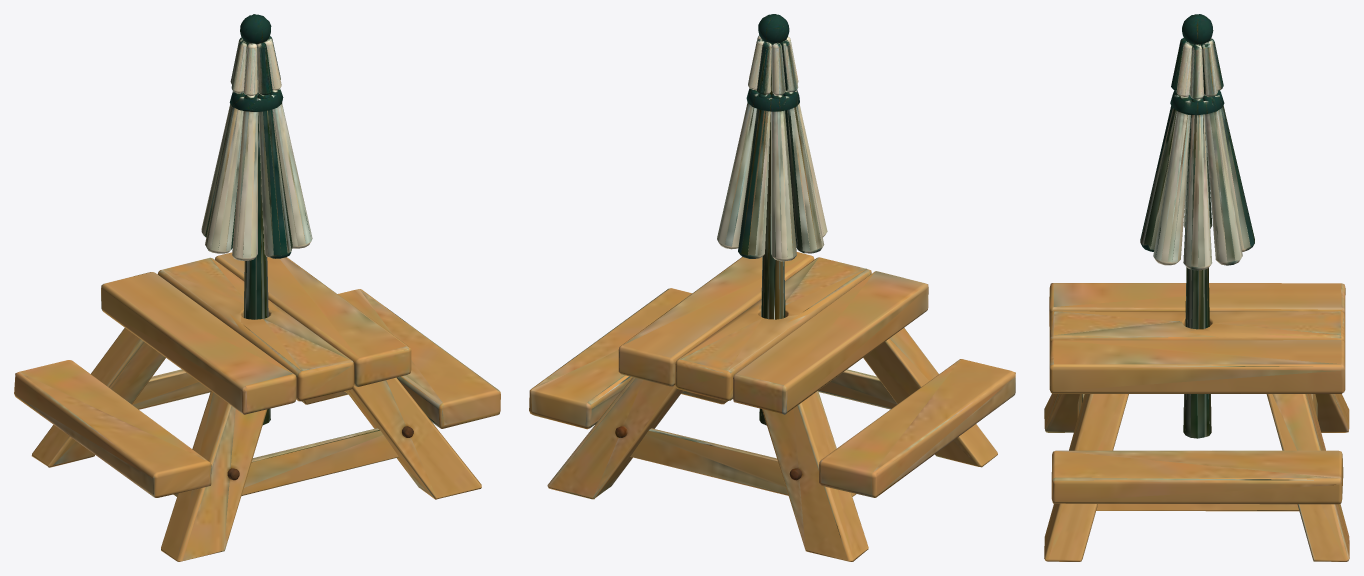
The model's file is table.glb.
The picture shows the model from 3 angles, left to right: view 1: azimuth 30°, elevation 25°; view 2: azimuth 150°, elevation 25°; view 3: azimuth 270°, elevation 25°; orthographic projection. The views are drawn at different scales.
Bounding box in the file's own units: 0.7983 × 1 × 0.59.
Materials: 1 (1 with a texture image).
